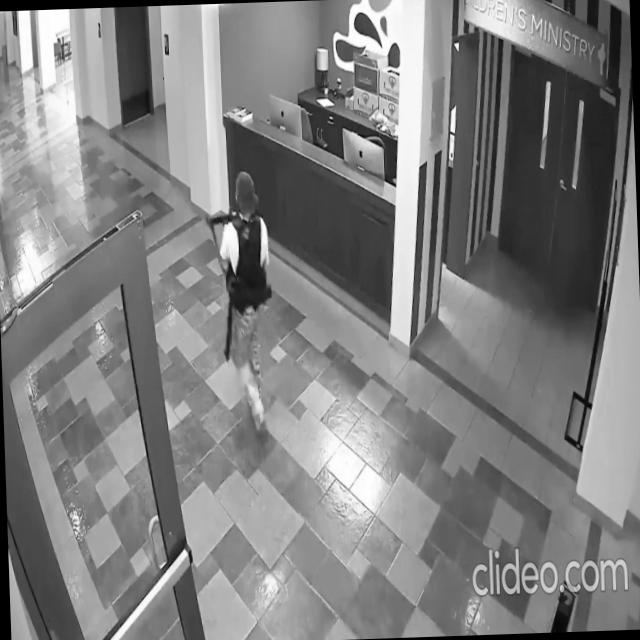gun: (220, 260, 238, 362), (204, 208, 240, 227)
person with a gun: (204, 166, 280, 437)
